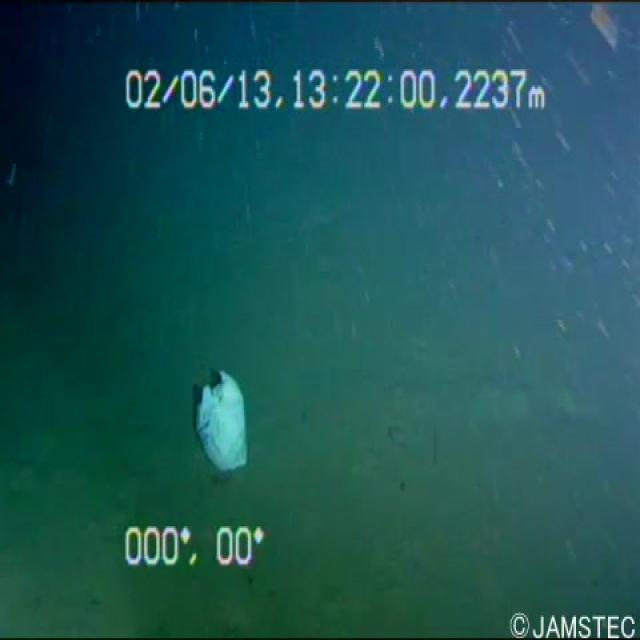plastic: (165, 340, 278, 490)
